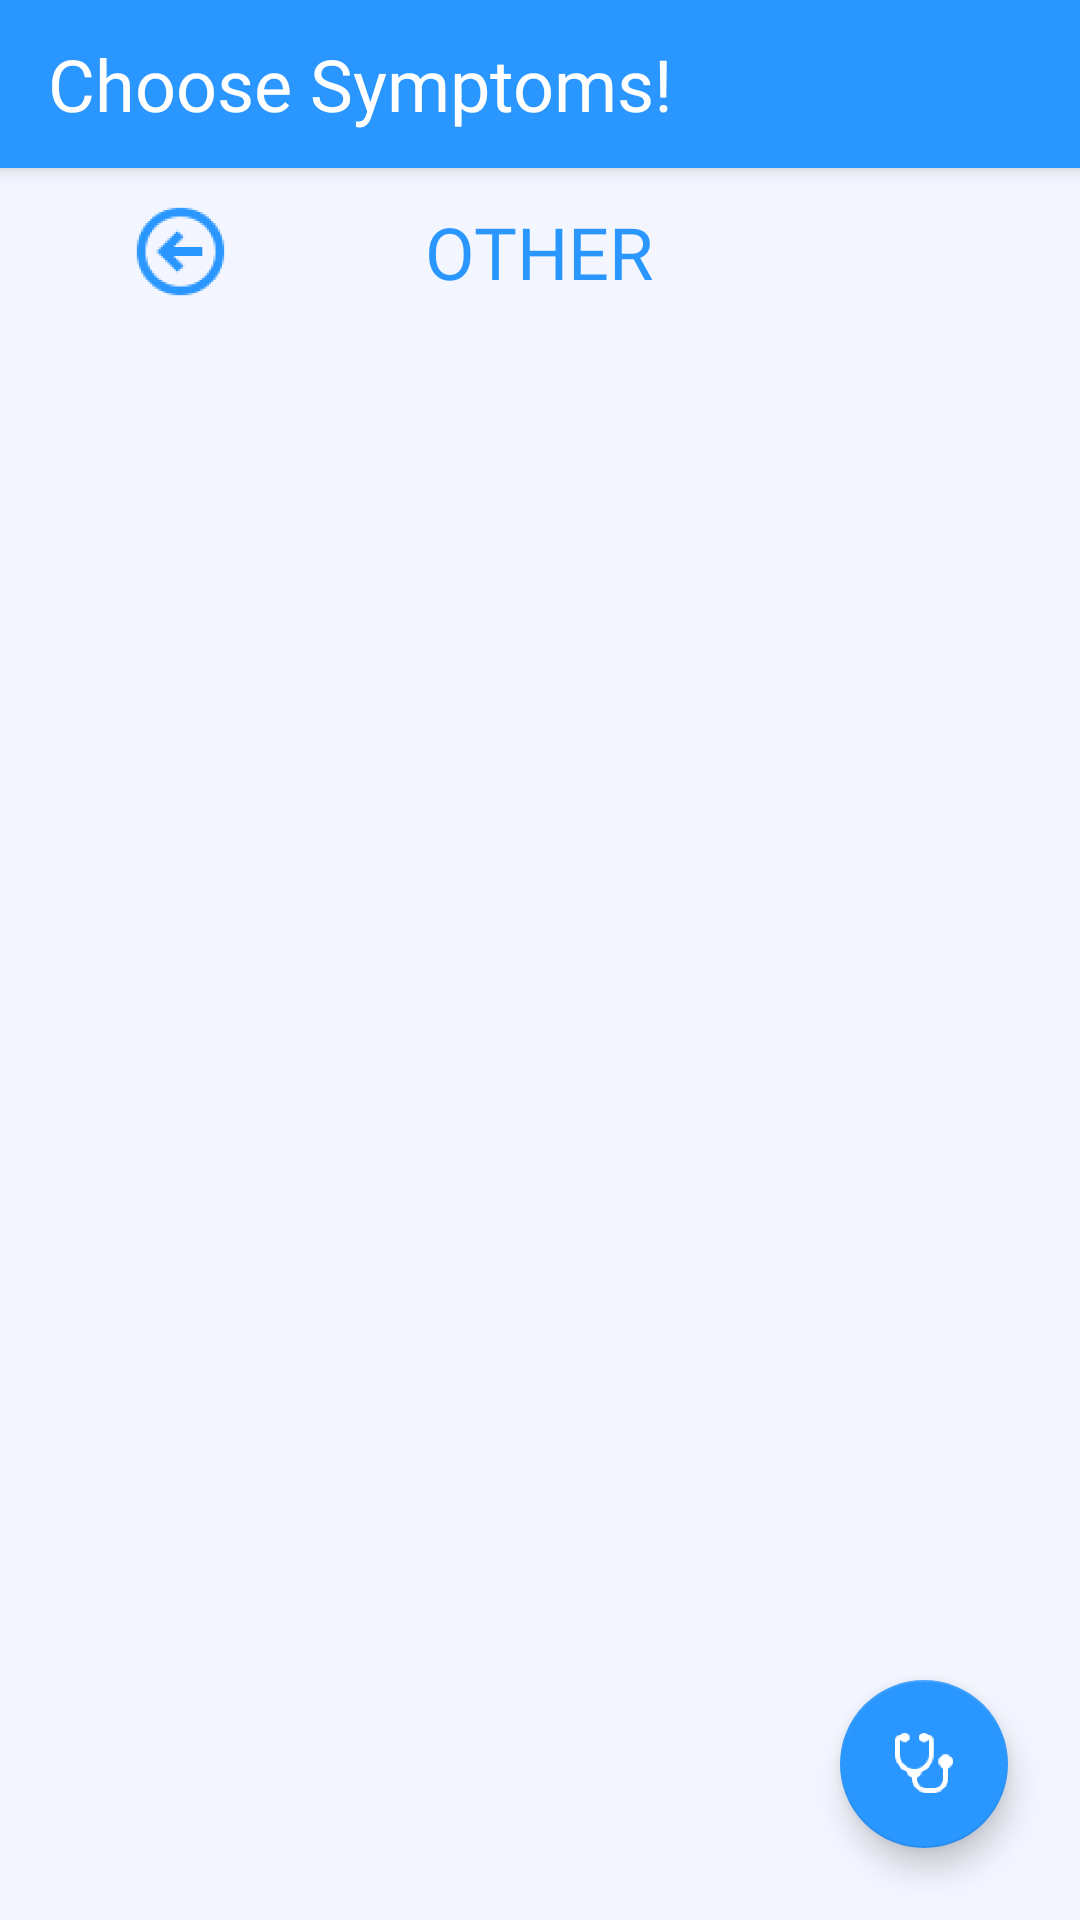

Where to tap for icons on this 1080w x 1920h app screen, as [x,y]:
back: [180,251]
diagnose: [924,1764]
